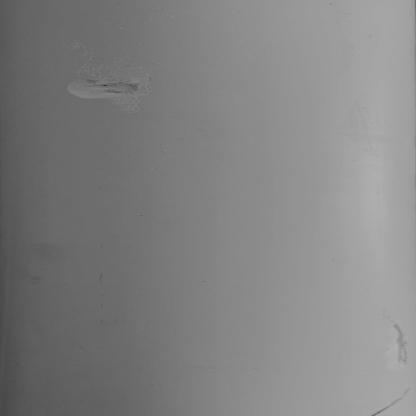sunshang: (66, 50, 153, 108), (382, 316, 410, 367), (367, 389, 411, 416)
